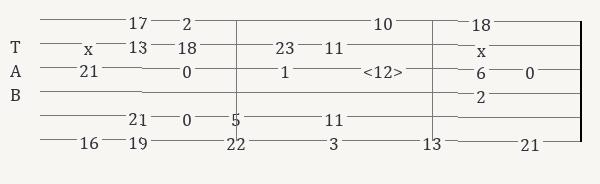0: (182, 108, 196, 124), (182, 60, 196, 76), (525, 60, 539, 76)
1: (280, 60, 294, 76)
10: (373, 12, 397, 28)
11: (324, 108, 348, 124), (324, 36, 348, 52)
13: (128, 36, 152, 52), (422, 132, 446, 148)
16: (79, 132, 103, 148)
17: (128, 12, 152, 29)
18: (177, 36, 201, 52), (471, 12, 495, 28)
19: (128, 132, 152, 148)
2: (182, 12, 196, 28), (476, 84, 490, 100)
21: (79, 60, 103, 76), (128, 108, 152, 124), (520, 132, 544, 148)
22: (226, 132, 250, 148)
23: (275, 36, 299, 52)
3: (329, 132, 343, 148)
5: (231, 108, 245, 125)
6: (476, 60, 490, 76)
harmonic: (363, 60, 407, 76)
x: (84, 38, 97, 51), (477, 38, 490, 51)
